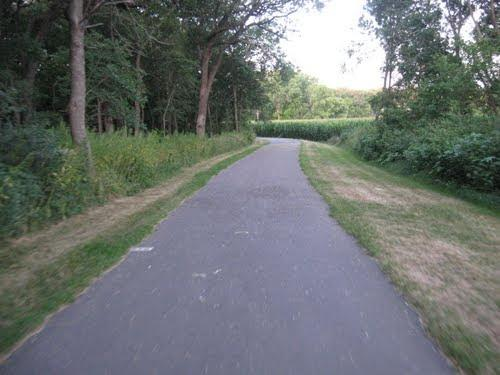overgrown grass: (0, 128, 99, 237), (93, 131, 252, 196)
